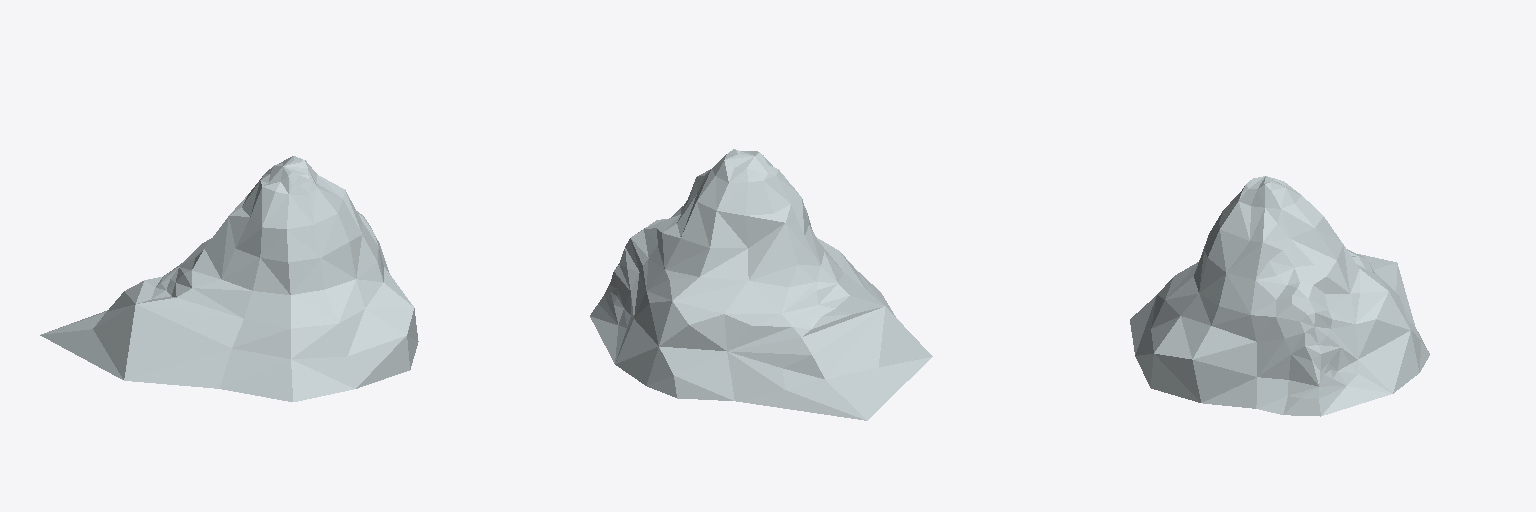
The picture shows the model from 3 angles: view 1: azimuth 30°, elevation 25°; view 2: azimuth 150°, elevation 25°; view 3: azimuth 270°, elevation 25°; orthographic projection.
Parts seen in each view (by area): view 1: group[number redacted]; view 2: group[number redacted]; view 3: group[number redacted].
Part boxes in pixels (x1,y1,x2,y2): group[number redacted]: (40,156,418,401); group[number redacted]: (590,149,932,420); group[number redacted]: (1130,176,1429,416).
Size of the model in its own units: 1.36 by 0.7555 by 1.12.